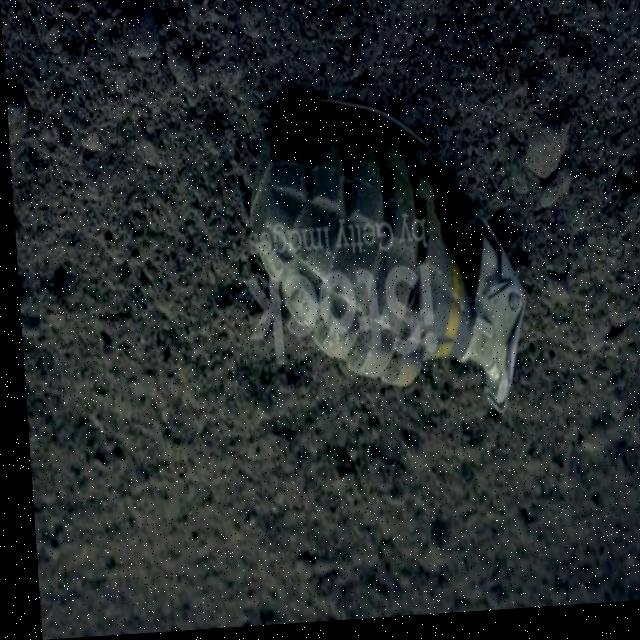grenade: (241, 95, 528, 435)
